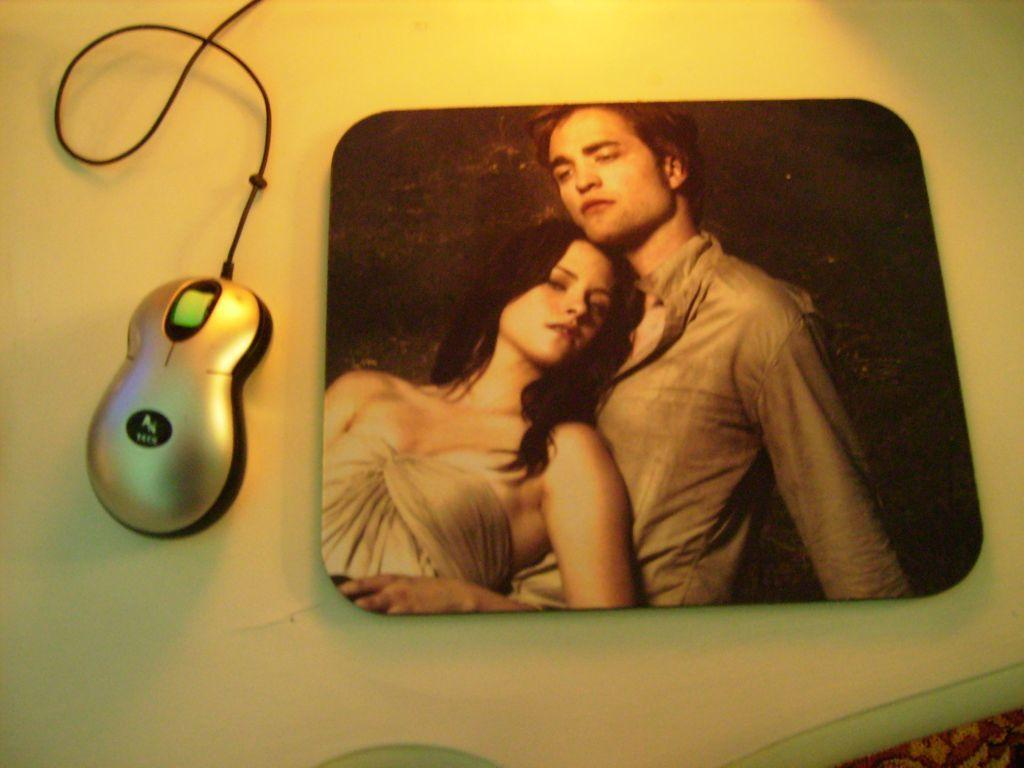Computer-mouse: (83, 272, 264, 533)
